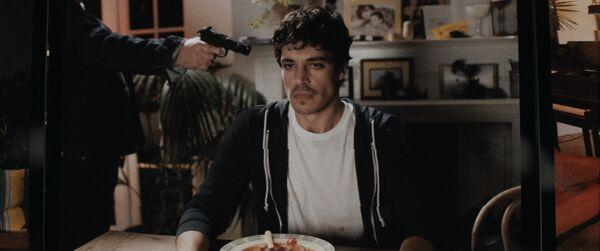Gun: (197, 24, 252, 60)
